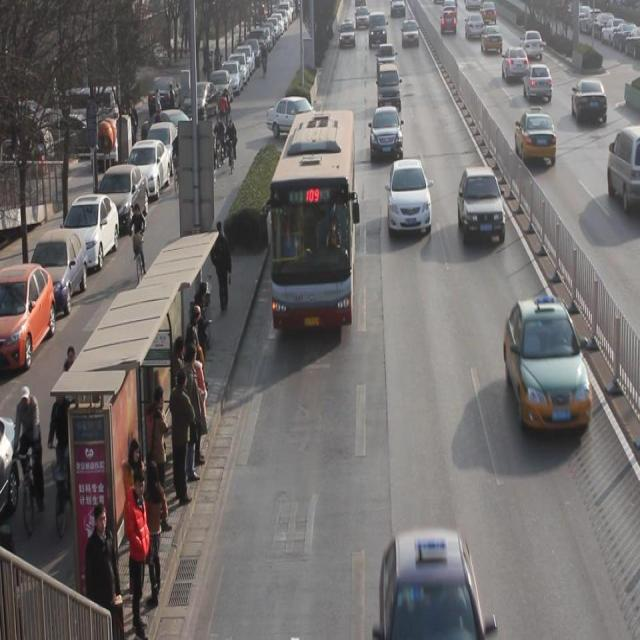car: (504, 297, 592, 435), (382, 530, 486, 640), (458, 168, 506, 246), (387, 159, 432, 233), (515, 108, 557, 166), (266, 96, 320, 141), (371, 106, 403, 162), (571, 79, 608, 125), (524, 63, 552, 103), (502, 47, 529, 81), (520, 29, 544, 62), (481, 22, 503, 54), (401, 17, 421, 47), (464, 12, 484, 41), (377, 43, 396, 70), (340, 19, 356, 47), (441, 10, 457, 36)
truck: (607, 127, 640, 213), (378, 65, 401, 112), (369, 11, 387, 47)
van: (267, 111, 354, 330)
